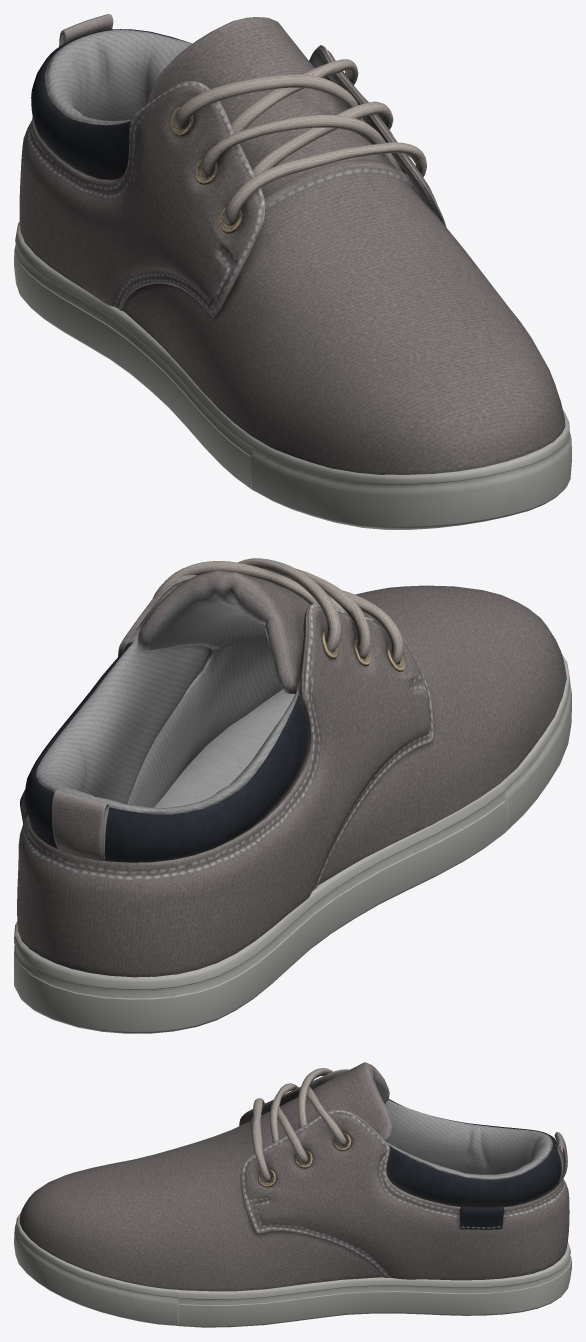
The model's file is shoe.glb.
3 views of the same model, one above another, from view 1: azimuth 30°, elevation 25°; view 2: azimuth 150°, elevation 25°; view 3: azimuth 270°, elevation 25° (orthographic). The views are drawn at different scales.
Visible parts, largest first — view 1: shoe:shoe_leftgroup1polySurface13polySurface34_26, shoe:group1polySurface12polySurface34_20, shoe:shoe_leftpolySurface7group1polySurface31_24, shoe:polySurface65_8, shoe:group1polySurface22polySurface35shoe_left_10; view 2: shoe:group1polySurface12polySurface34_20, shoe:shoe_leftgroup1polySurface13polySurface34_26, shoe:shoe_leftpolySurface7group1polySurface31_24, shoe:polySurface65_8, shoe:shoe_leftpolySurface7group1polySurface32_16, shoe:group1polySurface22polySurface35shoe_left_10; view 3: shoe:group1polySurface12polySurface34_20, shoe:shoe_leftgroup1polySurface13polySurface34_26, shoe:shoe_leftpolySurface7group1polySurface31_24, shoe:polySurface65_8, shoe:shoe_leftgroup1polySurface24polySurface36_22, shoe:group1polySurface22polySurface35shoe_left_10.
Part boxes in pixels (left/top/right/bottom): shoe:shoe_leftgroup1polySurface13polySurface34_26: left=123, top=17, right=565, bottom=474; shoe:group1polySurface12polySurface34_20: left=19, top=29, right=446, bottom=317; shoe:shoe_leftpolySurface7group1polySurface31_24: left=14, top=221, right=571, bottom=529; shoe:polySurface65_8: left=174, top=59, right=426, bottom=225; shoe:group1polySurface22polySurface35shoe_left_10: left=59, top=14, right=113, bottom=46; shoe:group1polySurface12polySurface34_20: left=17, top=574, right=434, bottom=977; shoe:shoe_leftgroup1polySurface13polySurface34_26: left=127, top=570, right=566, bottom=885; shoe:shoe_leftpolySurface7group1polySurface31_24: left=14, top=653, right=571, bottom=1033; shoe:polySurface65_8: left=152, top=558, right=403, bottom=663; shoe:shoe_leftpolySurface7group1polySurface32_16: left=153, top=689, right=294, bottom=807; shoe:group1polySurface22polySurface35shoe_left_10: left=52, top=789, right=109, bottom=860; shoe:group1polySurface12polySurface34_20: left=239, top=1069, right=569, bottom=1280; shoe:shoe_leftgroup1polySurface13polySurface34_26: left=19, top=1062, right=392, bottom=1291; shoe:shoe_leftpolySurface7group1polySurface31_24: left=14, top=1212, right=571, bottom=1327; shoe:polySurface65_8: left=252, top=1068, right=346, bottom=1182; shoe:shoe_leftgroup1polySurface24polySurface36_22: left=460, top=1206, right=503, bottom=1229; shoe:group1polySurface22polySurface35shoe_left_10: left=554, top=1132, right=567, bottom=1183.
Size of the model in its own units: 129 by 150 by 348.
1 material, 1 textured.
